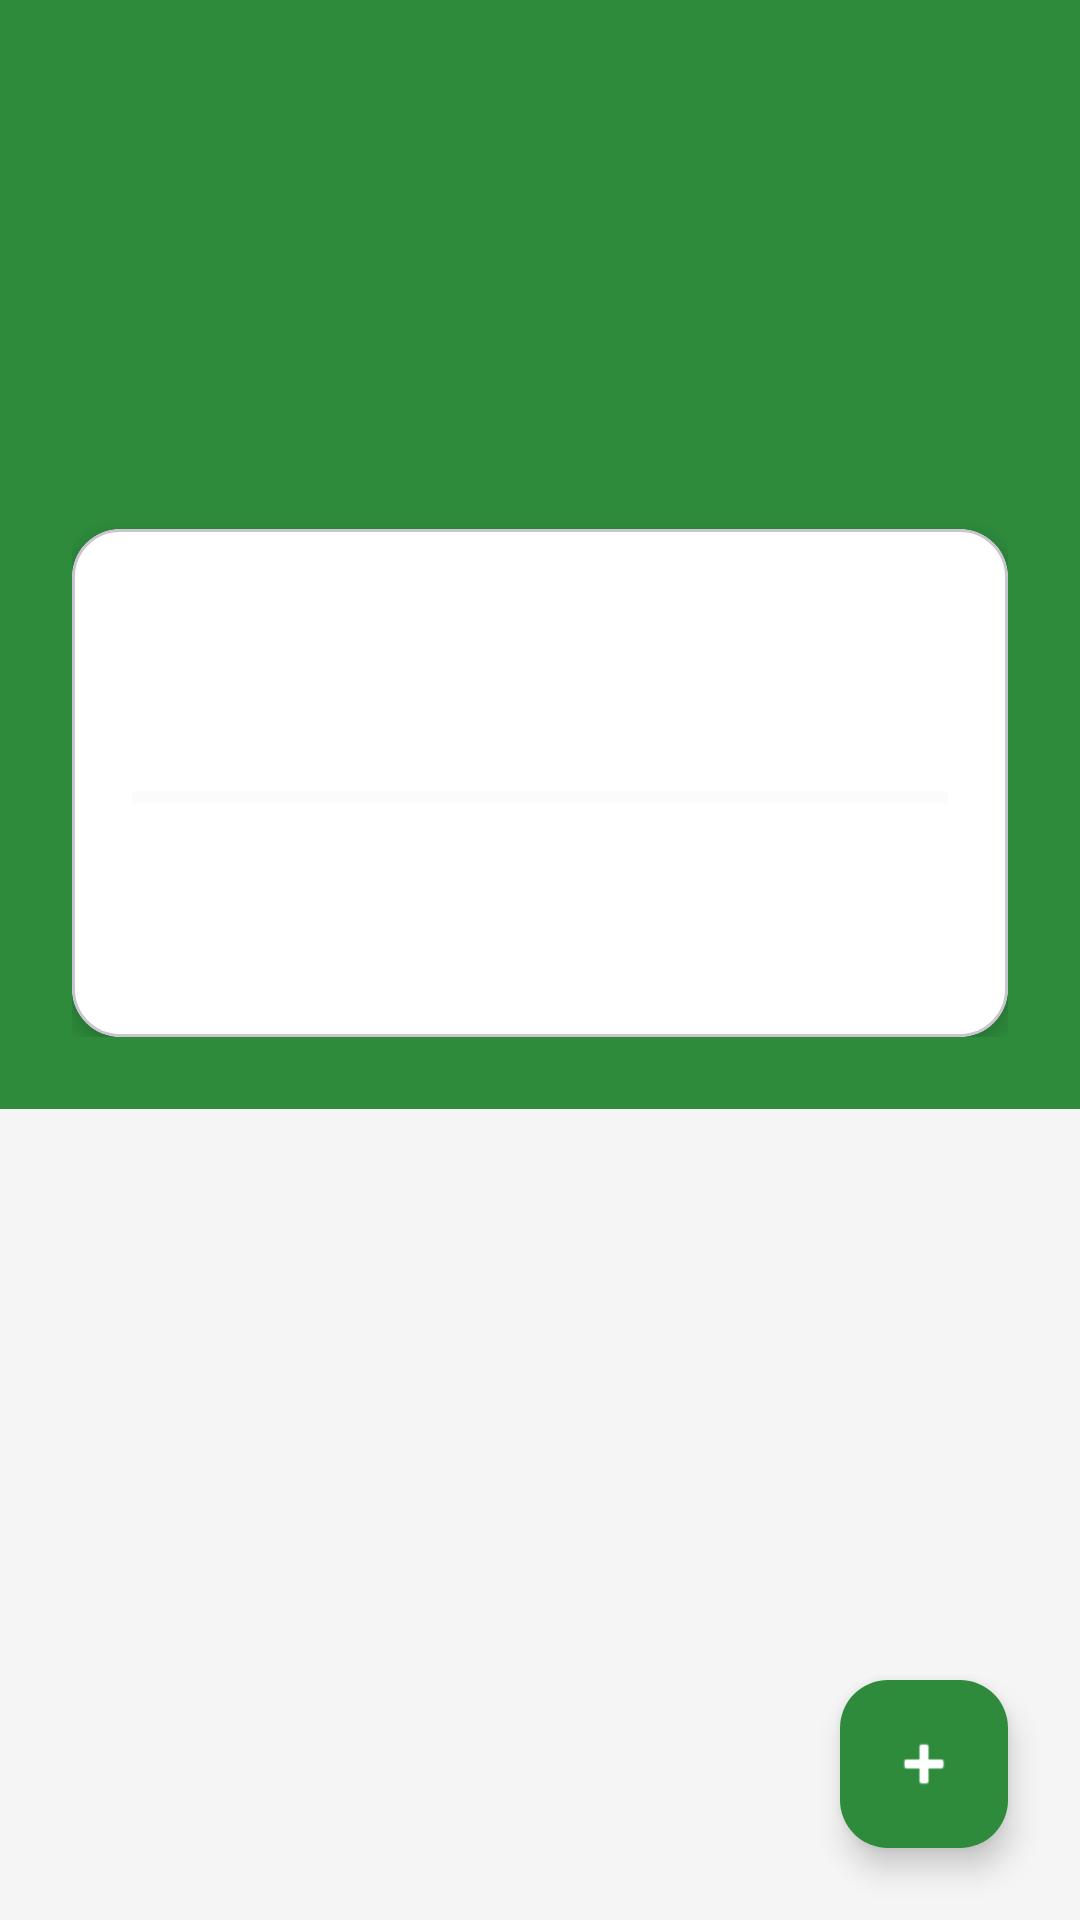

Where icons sit on this 1080px x 1920px app screen, as (x1, y1, x2, y2):
Agregar gasto: (840, 1680, 1008, 1848)
